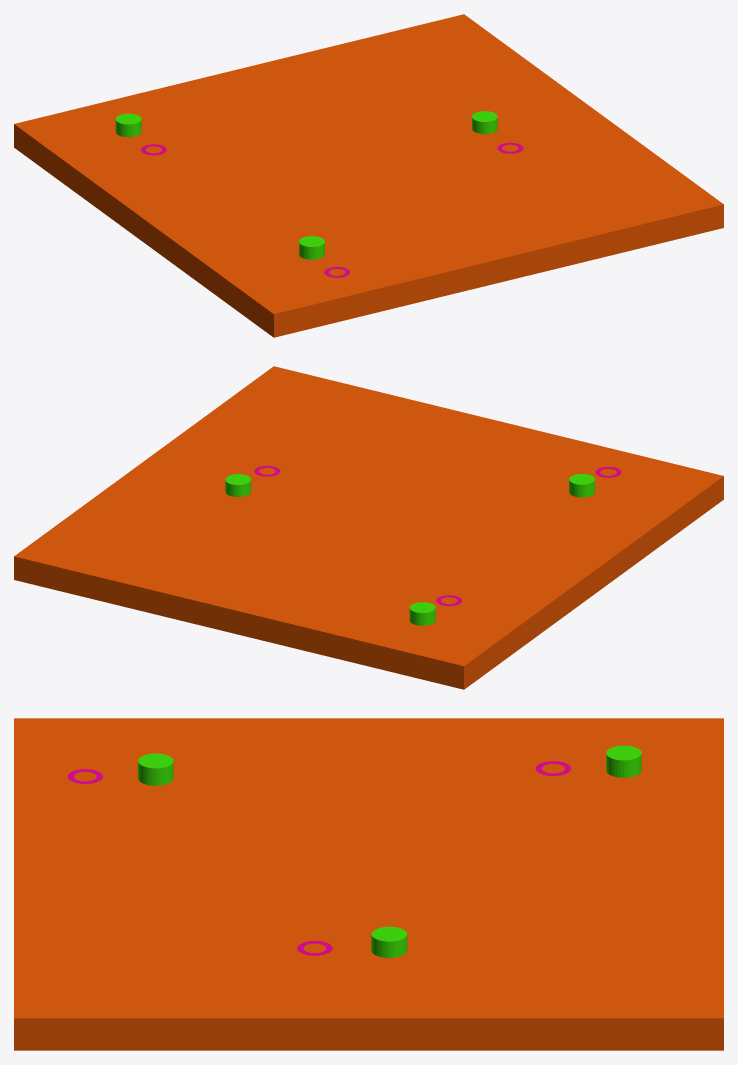
Rendered from riskmap.fbx.
3 renders of one model, top to bottom at view 1: azimuth 30°, elevation 25°; view 2: azimuth 150°, elevation 25°; view 3: azimuth 270°, elevation 25°, orthographic. The views are drawn at different scales.
Visible parts, largest first — view 1: floor, norway, sweden, denmark, base.001, base.002, base.003; view 2: floor, norway, sweden, denmark, base.001, base.002, base.003; view 3: floor, norway, sweden, denmark, base.001, base.002, base.003.
Boxes of the visible parts, <box> form: floor: <box>14,14,723,337</box>; norway: <box>195,204,723,313</box>; sweden: <box>357,74,688,190</box>; denmark: <box>14,77,309,197</box>; base.001: <box>115,113,141,137</box>; base.002: <box>299,236,324,259</box>; base.003: <box>472,111,497,134</box>; floor: <box>14,366,723,689</box>; norway: <box>274,366,723,533</box>; sweden: <box>96,392,384,541</box>; denmark: <box>272,545,564,665</box>; base.001: <box>409,602,435,625</box>; base.002: <box>569,474,594,497</box>; base.003: <box>225,474,250,496</box>; floor: <box>14,718,723,1050</box>; norway: <box>14,718,232,1017</box>; sweden: <box>109,888,499,1018</box>; denmark: <box>448,718,723,848</box>; base.001: <box>606,745,641,777</box>; base.002: <box>138,753,173,785</box>; base.003: <box>371,926,407,957</box>.
Size of the model in its own units: 4000 by 308 by 4000.
